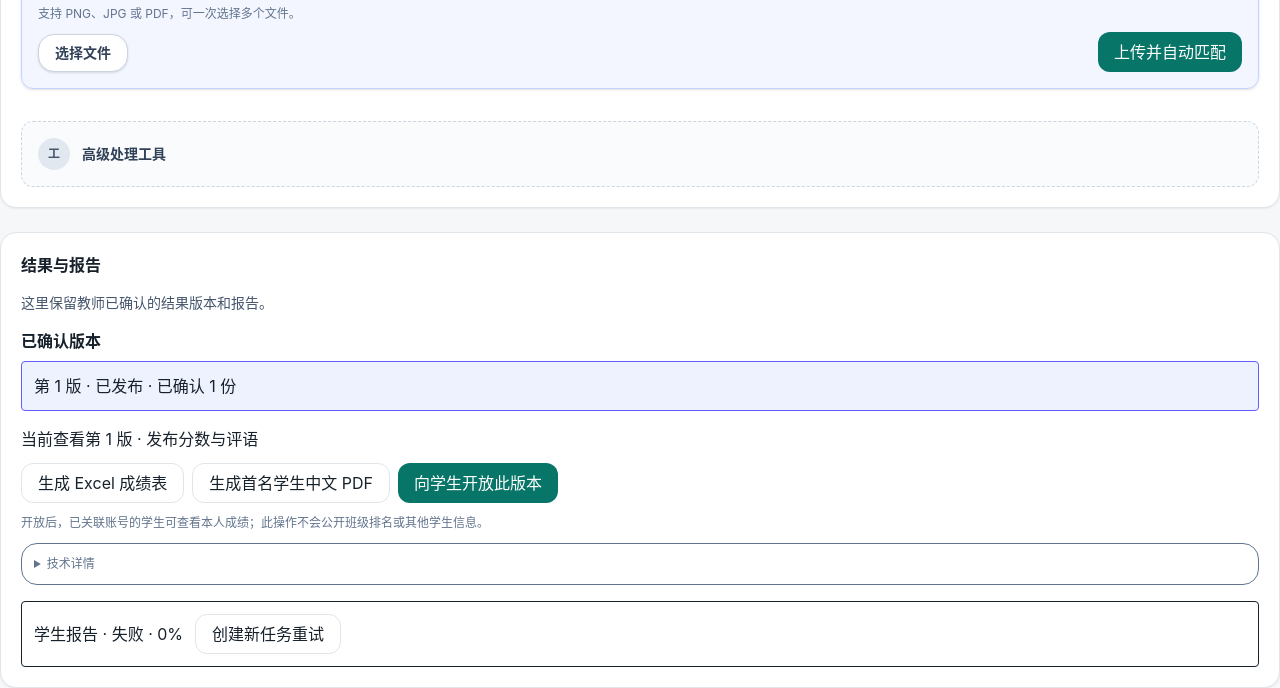
it: creates a replacement report job once and keeps the failed job terminal
(page scrolled)
Click the button "创建新任务重试" at (268, 634), box [195,614,341,654]
(page scrolled)
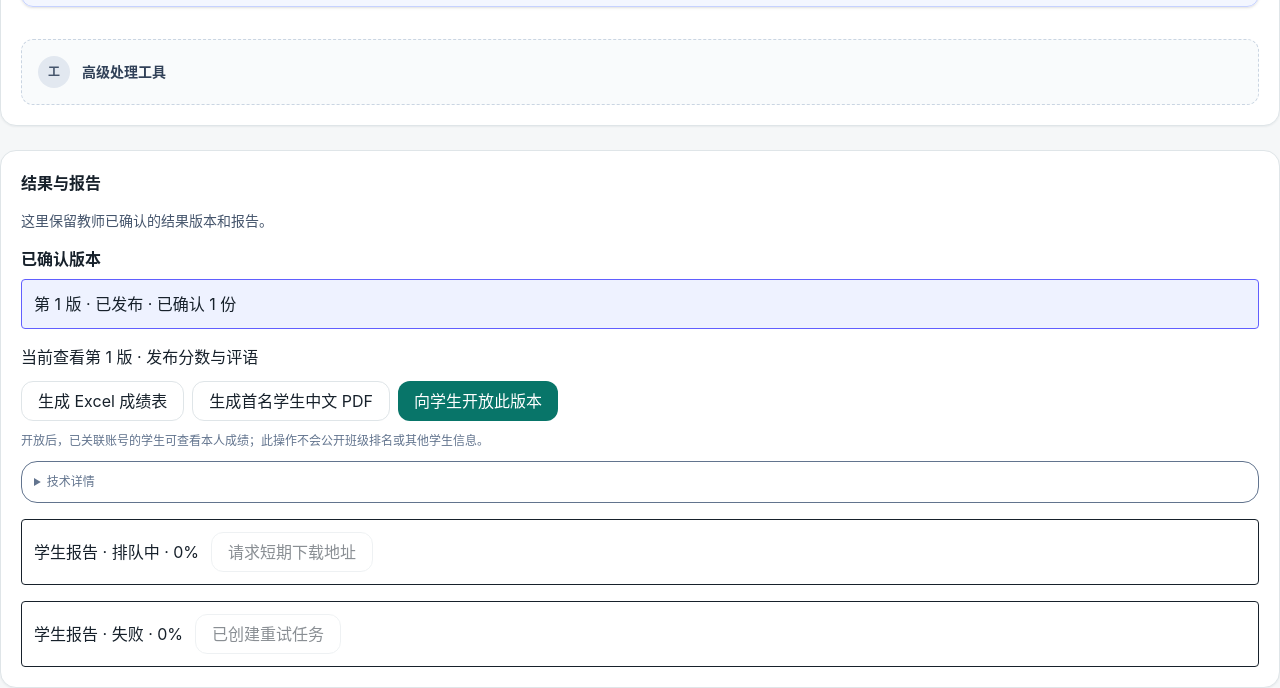
Expected: the text "学生报告 · 失败 · 0% 已创建重试任务" is shown, [21,601,1259,667]
Expected: the text "学生报告 · 排队中 · 0% 请求短期下载地址" is shown, [21,519,1259,585]
Expected: the button "已创建重试任务" is disabled, [195,614,341,654]
